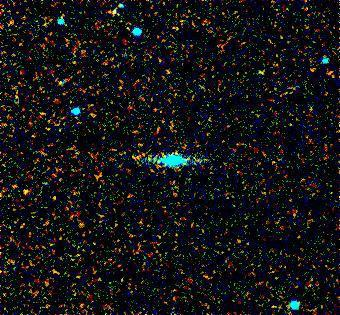star: (10, 174, 40, 204)
